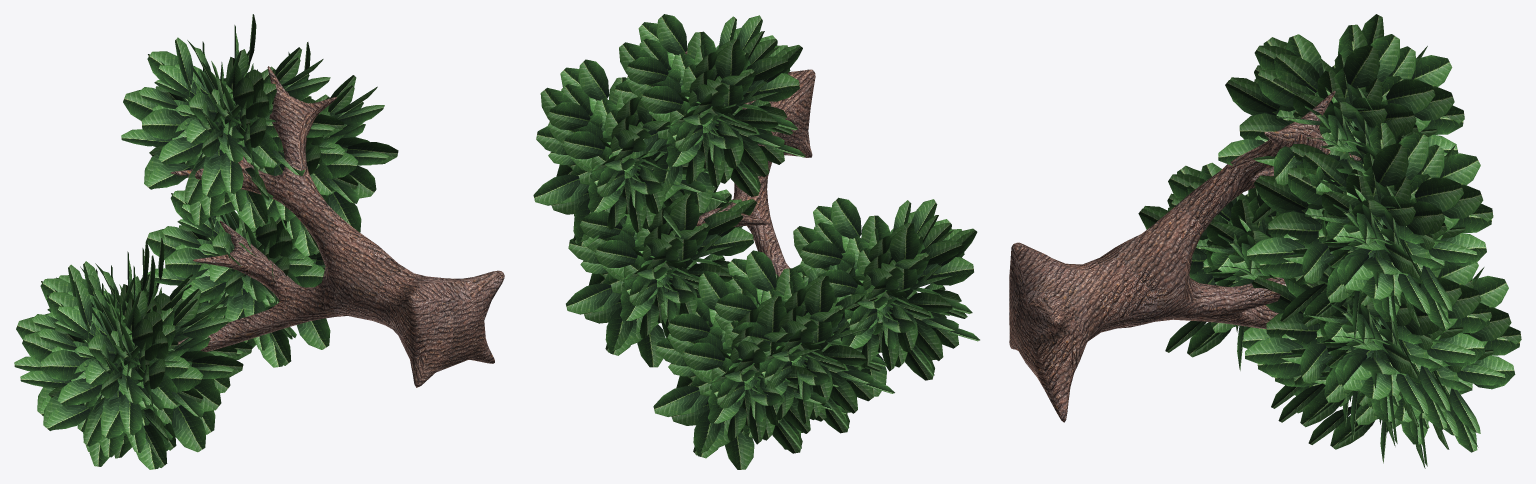
File: tree1.fbx
3 views of the same model, side by side, from view 1: azimuth 30°, elevation 25°; view 2: azimuth 150°, elevation 25°; view 3: azimuth 270°, elevation 25° (orthographic). The views are drawn at different scales.
Visible parts, largest first — view 1: Cube; view 2: Cube; view 3: Cube.
Part boxes in pixels (x1,y1,x2,y2): Cube: (14, 14, 504, 469); Cube: (533, 14, 979, 469); Cube: (1009, 14, 1521, 468).
Size of the model in its own units: 478 by 502 by 485.
